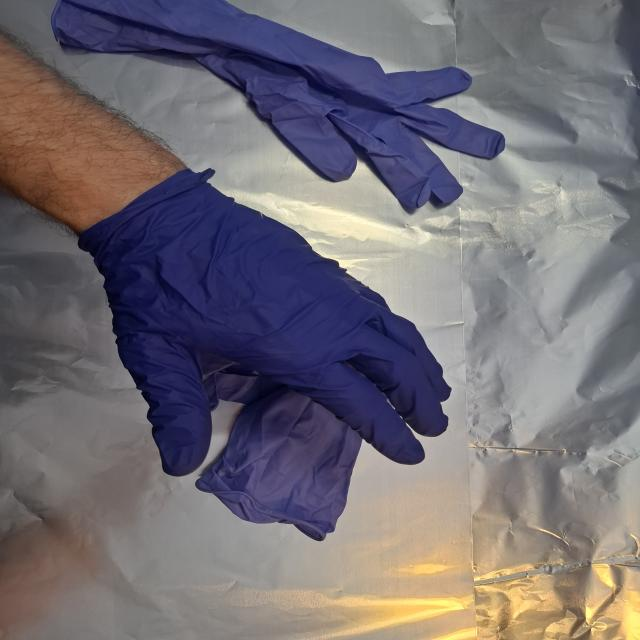glove_on: (80, 175, 458, 481)
